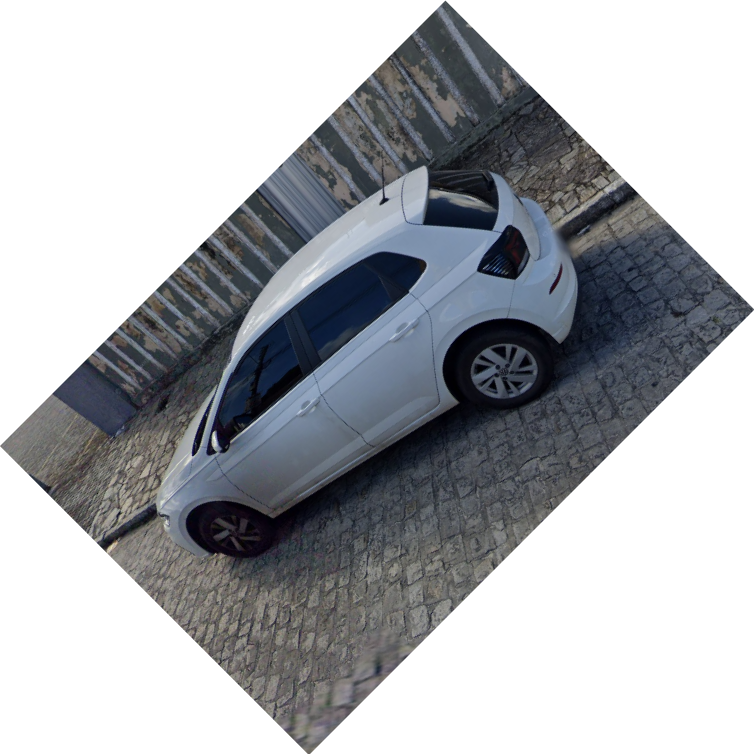car: (150, 143, 583, 566)
